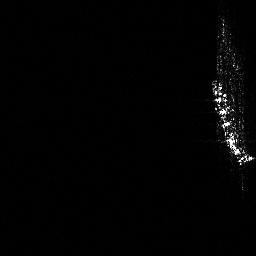ship: (209, 12, 255, 167)
